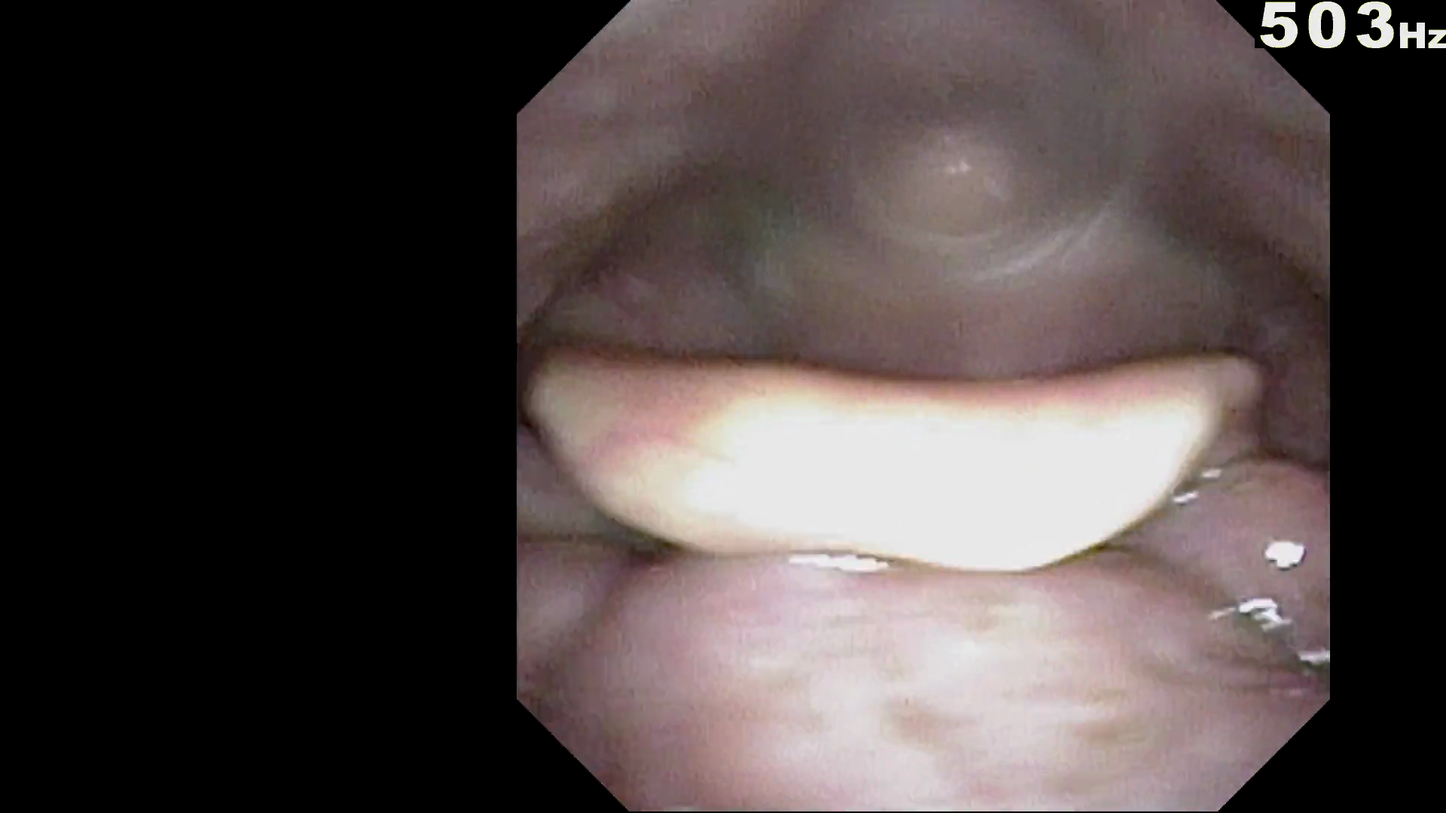epiglottis: (610, 347, 1226, 572)
